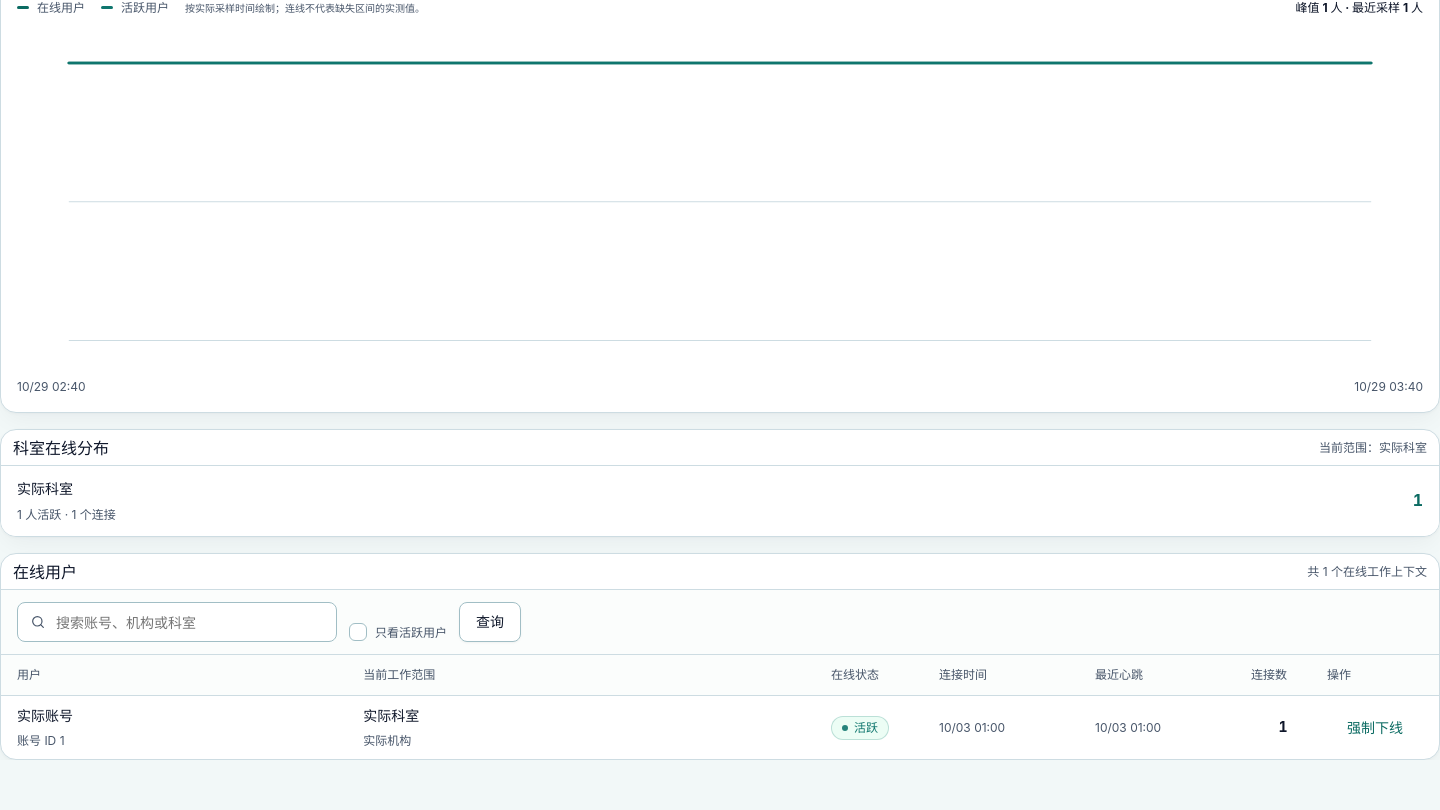
it: PresenceManagement actual observations › does not accept a mismatched termination receipt as success
(page scrolled)
Click the button "强制下线": click(1375, 728) [1327,712,1423,744]
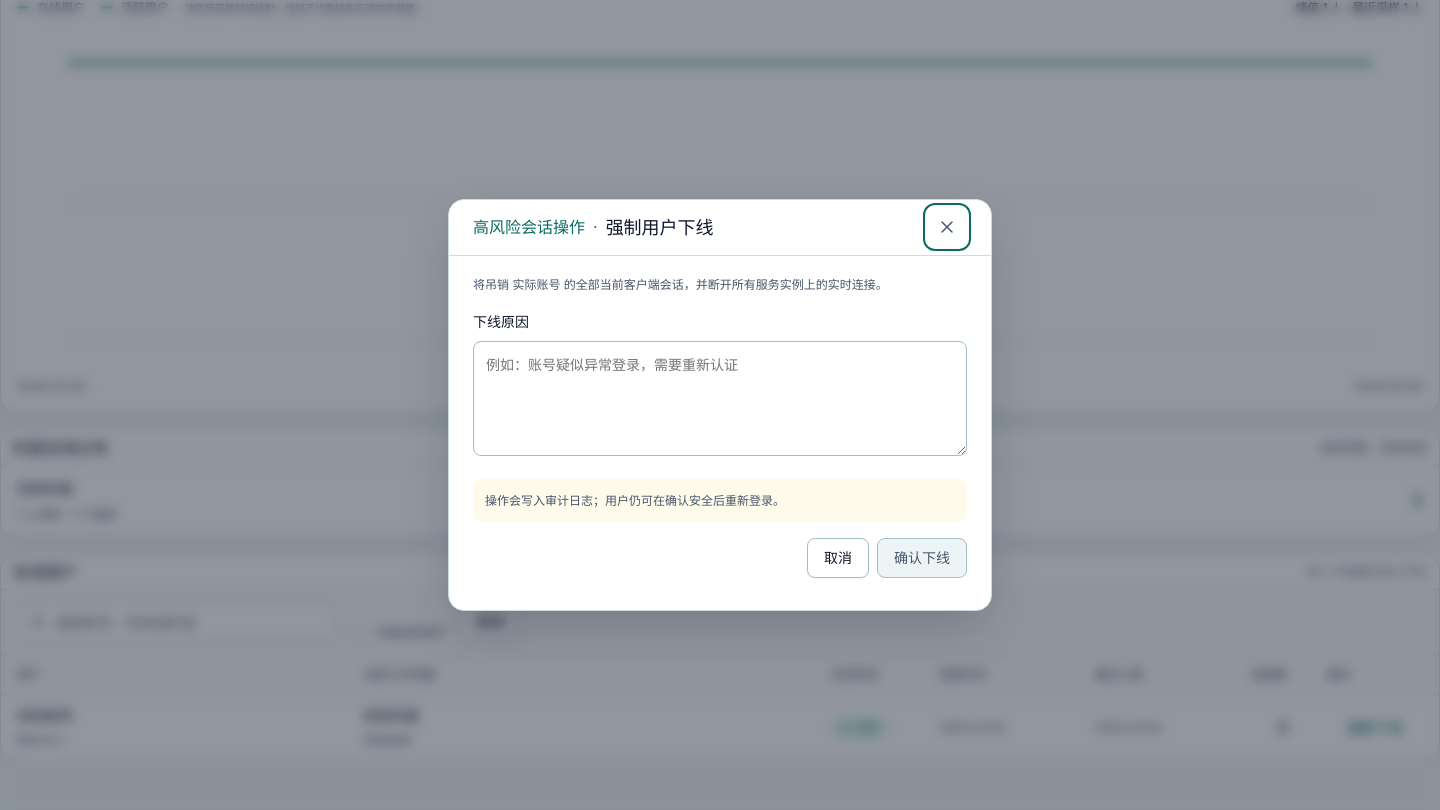
In the text box labelled "下线原因": (720, 399) [473,341,967,456], type "实际管理员原因"
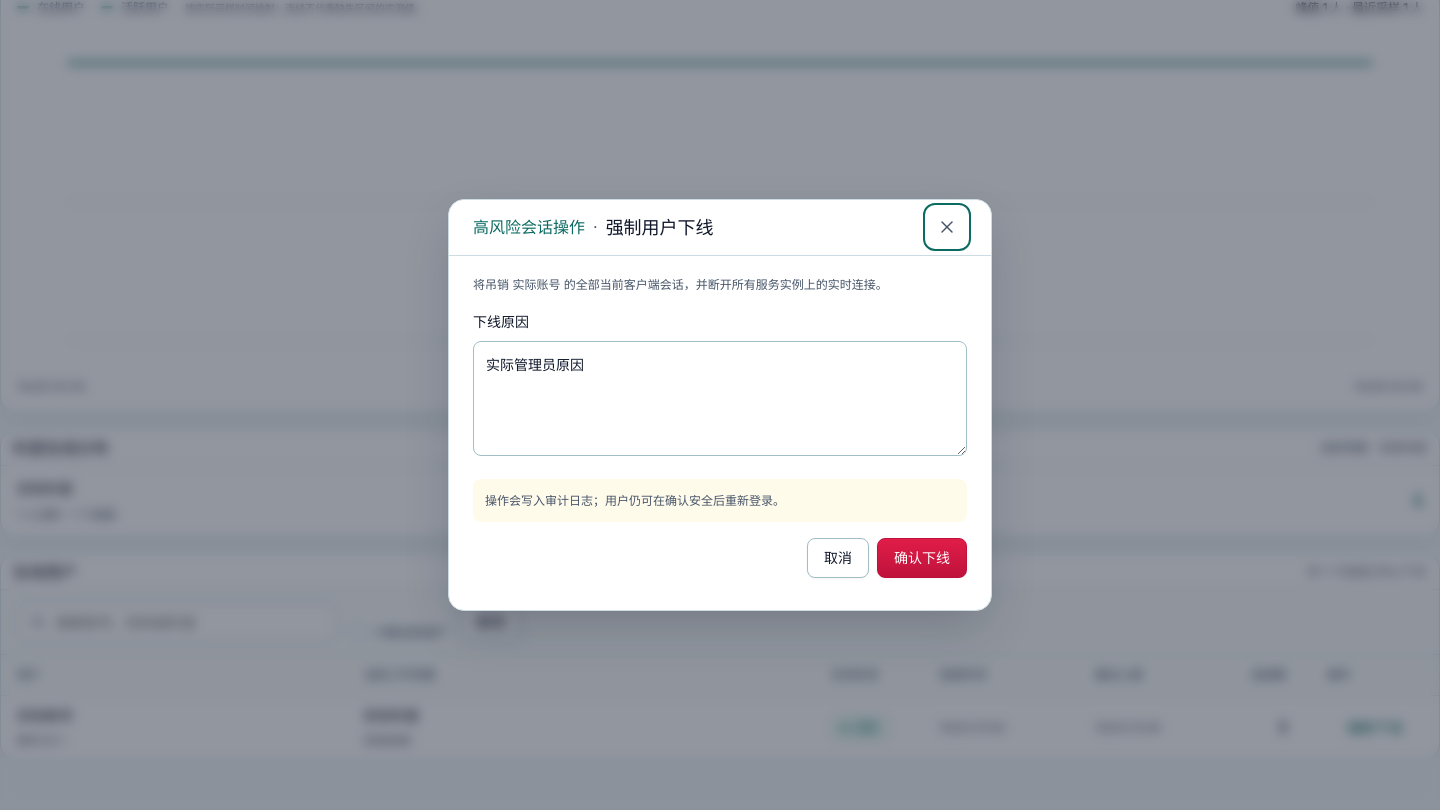
Click the button "确认下线": click(922, 558) [877,538,967,578]
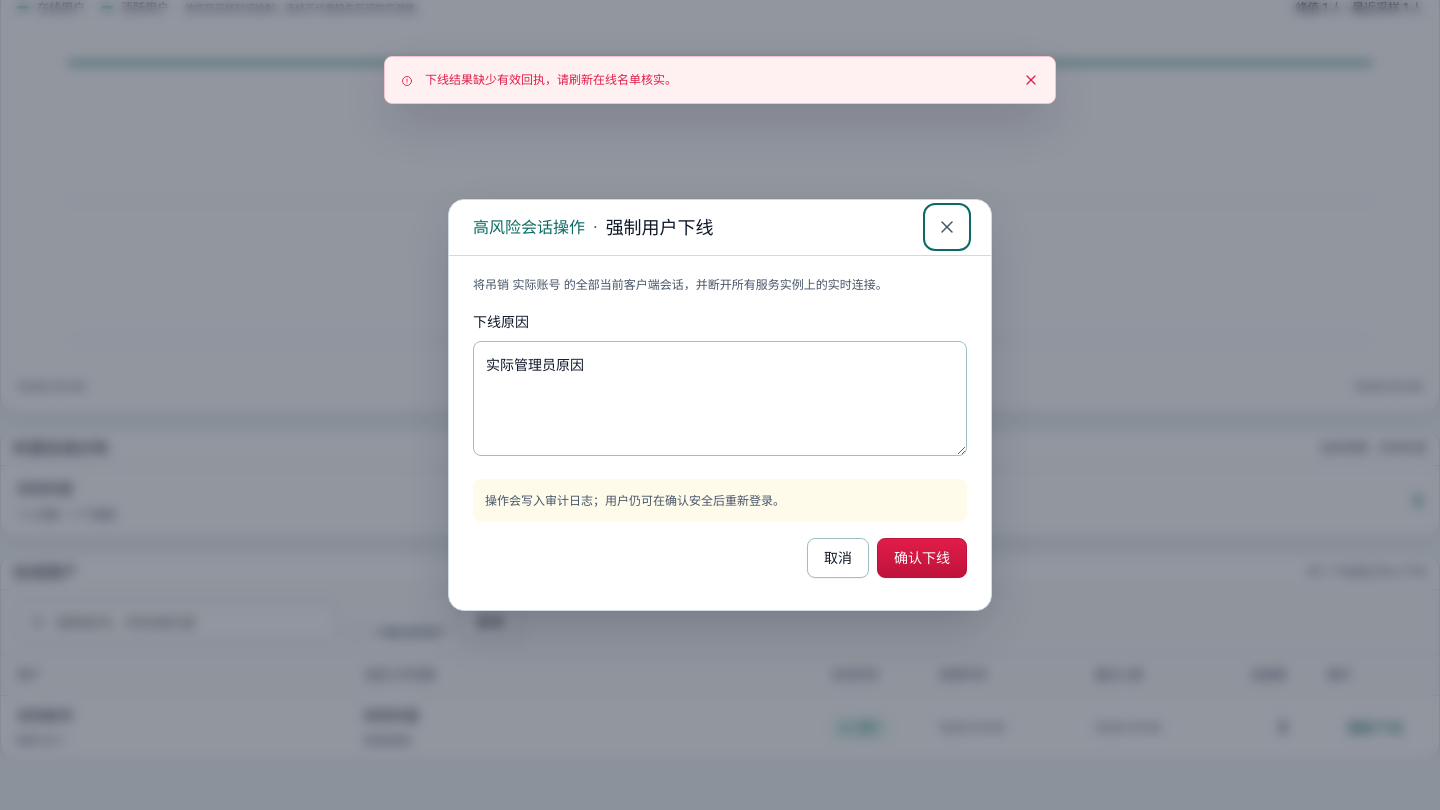
Now the dialog is shown, box [448,199,992,611]
Now the text "下线结果缺少有效回执，请刷新在线名单核实。" is shown, box [425,72,677,87]
